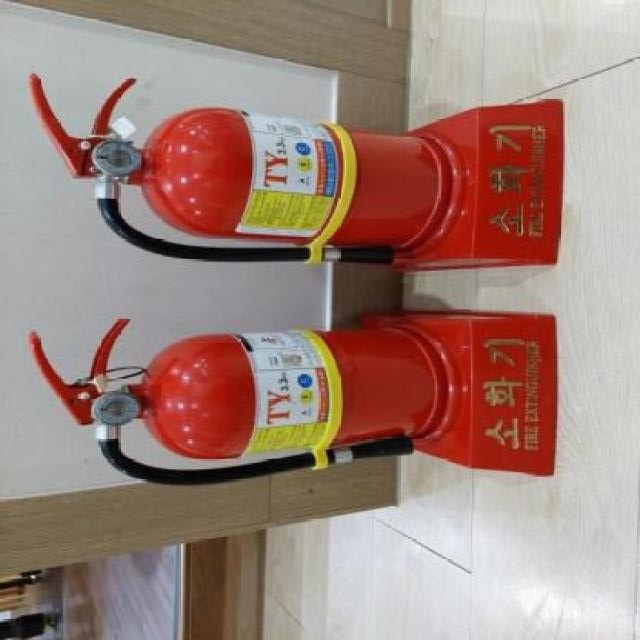fire extinguisher: (29, 72, 453, 266), (28, 319, 446, 486)
